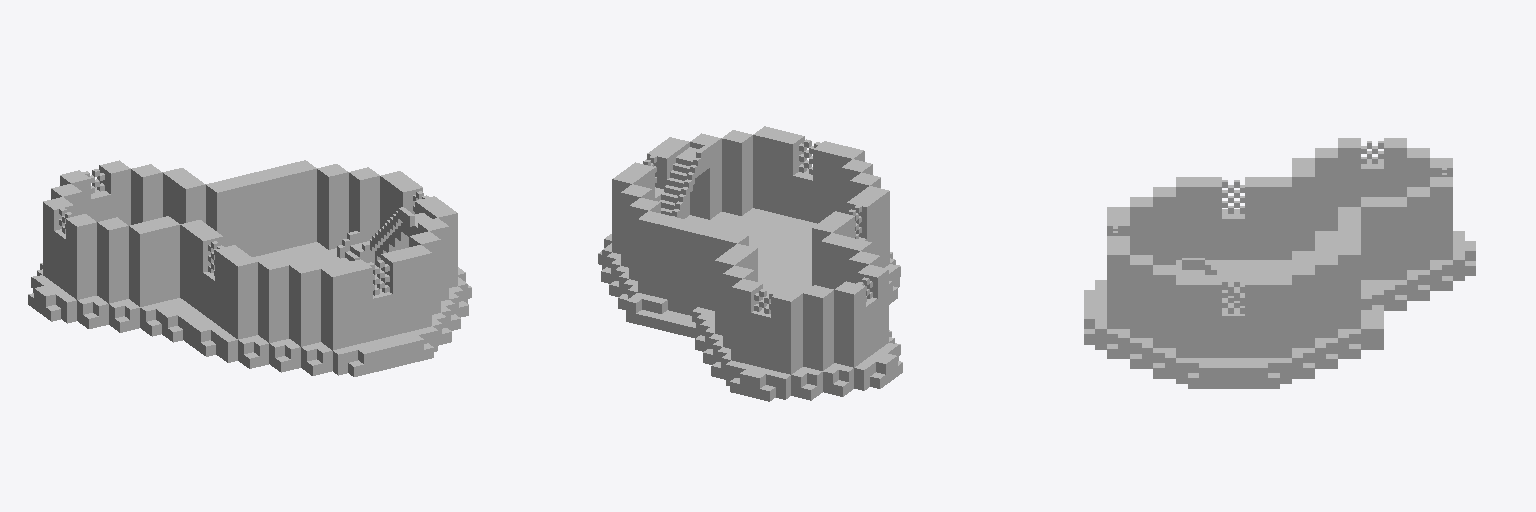
File: Interior Tower.obj
The picture shows the model from 3 angles: view 1: azimuth 30°, elevation 25°; view 2: azimuth 150°, elevation 25°; view 3: azimuth 270°, elevation 25°; orthographic projection.
Parts seen in each view (by area): view 1: object 1; view 2: object 1; view 3: object 1.
Part boxes in pixels (left/top/right/bottom): object 1: left=28, top=160, right=471, bottom=376; object 1: left=598, top=126, right=902, bottom=401; object 1: left=1084, top=138, right=1475, bottom=388.
Bounding box in the file's own units: 6.8 × 1.9 × 6.8.